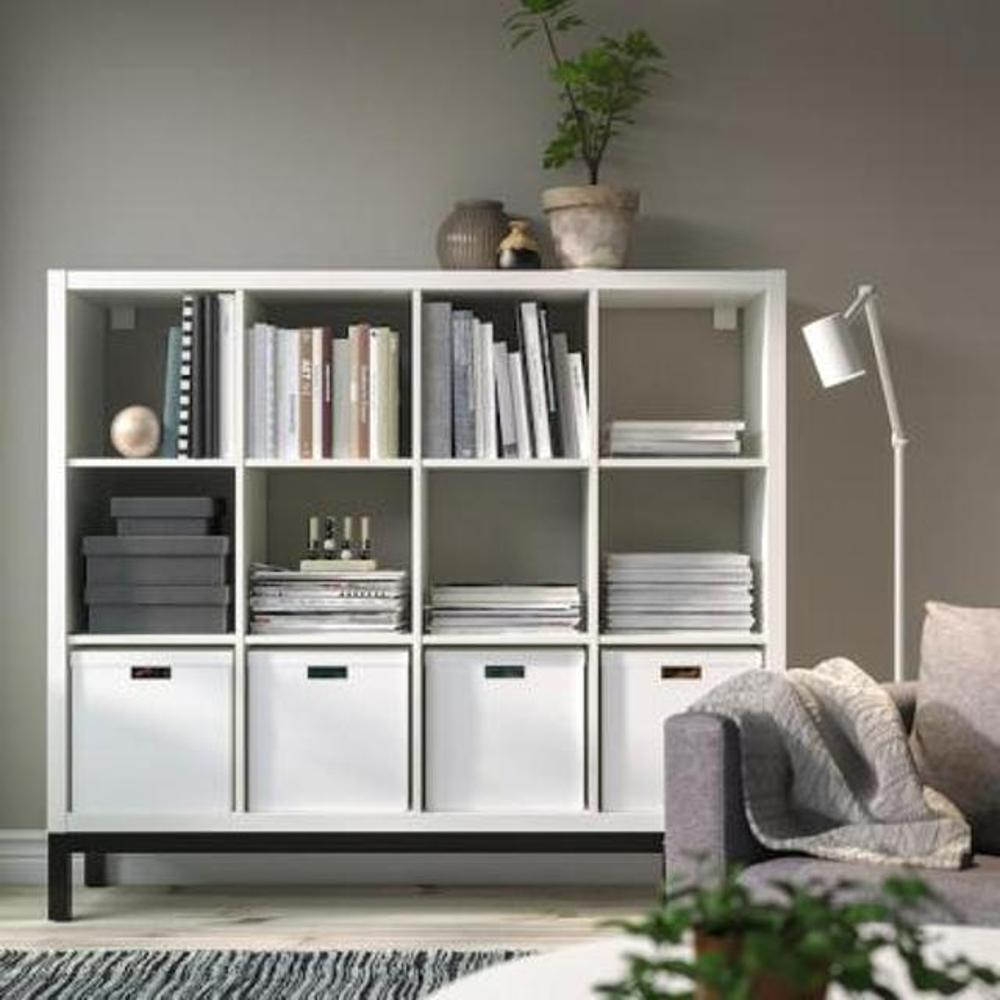lamp: (39, 263, 793, 927)
